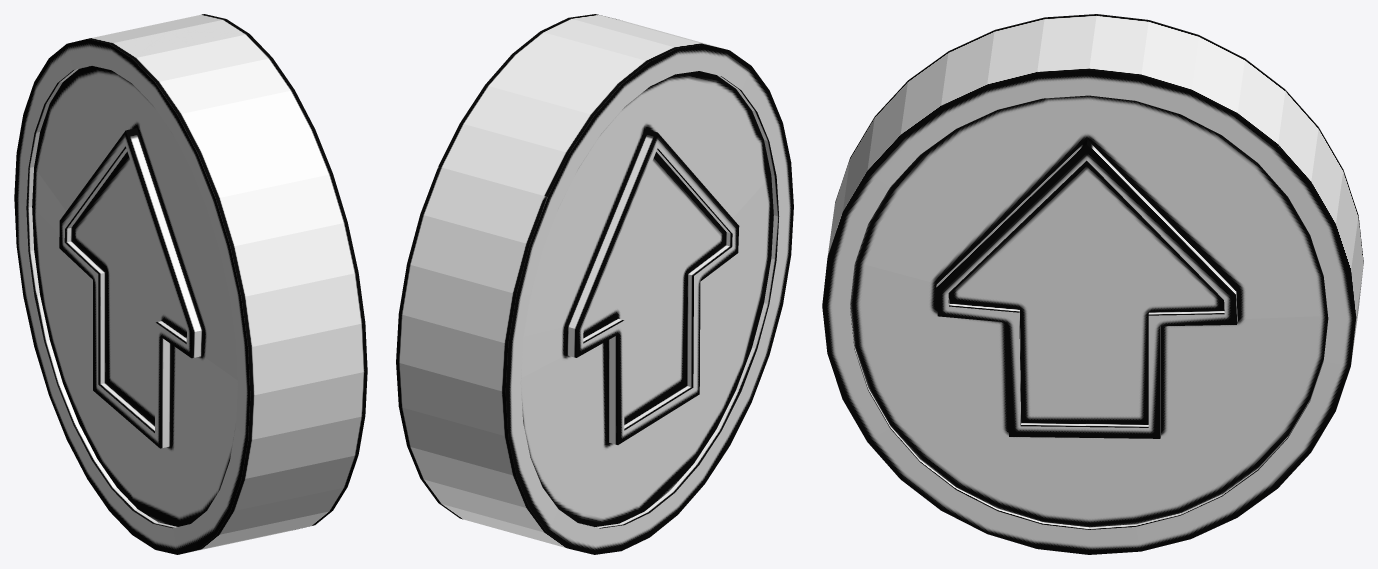
The model's file is powerup.fbx.
3 views of the same model, side by side, from view 1: azimuth 30°, elevation 25°; view 2: azimuth 150°, elevation 25°; view 3: azimuth 270°, elevation 25° (orthographic).
Visible parts, largest first — view 1: Cylinder; view 2: Cylinder; view 3: Cylinder.
Part boxes in pixels (x1,y1,x2,y2): Cylinder: [14, 14, 367, 554]; Cylinder: [396, 14, 793, 554]; Cylinder: [822, 14, 1363, 554].
Bounding box in the file's own units: 125 × 400 × 405.
